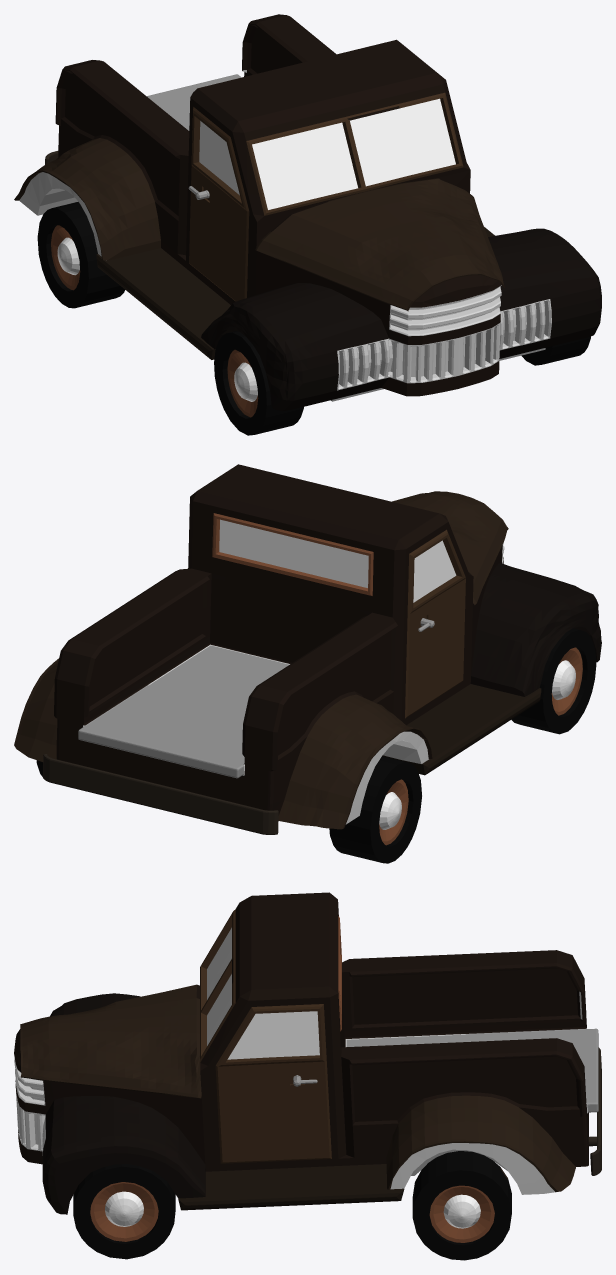
The model's file is Truck-Pickup.FBX.
3 renders of one model, top to bottom at view 1: azimuth 30°, elevation 25°; view 2: azimuth 150°, elevation 25°; view 3: azimuth 270°, elevation 25°, orthographic. The views are drawn at different scales.
Parts seen in each view (by area): view 1: Truck; view 2: Truck; view 3: Truck.
Boxes of the visible parts, box(x1,y1,x2,y2) form: Truck: box(14, 14, 601, 435); Truck: box(14, 464, 601, 863); Truck: box(14, 892, 601, 1260).
Bounding box in the file's own units: 175 × 125 × 275.
